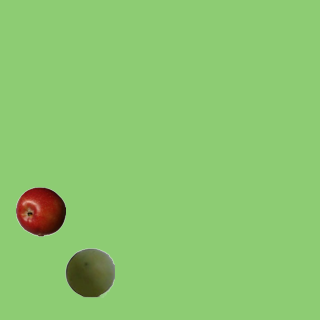Apple Braeburn: (15, 186, 65, 236)
Grape White 4: (64, 247, 114, 297)
